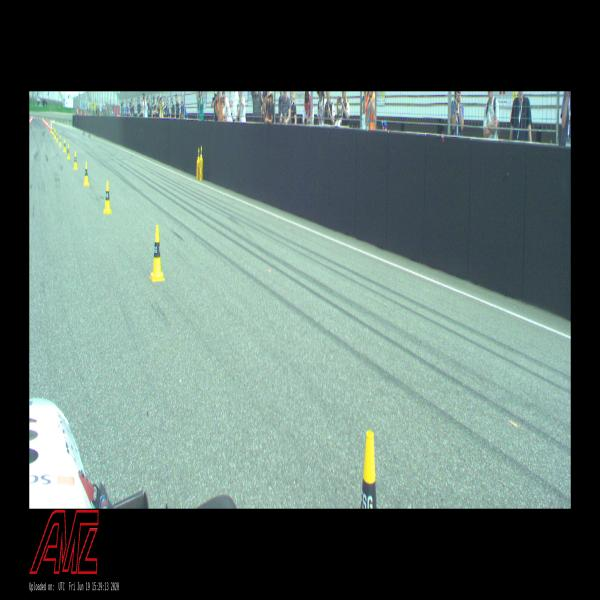yellow_cone: (359, 430, 377, 509), (149, 225, 165, 282), (103, 180, 112, 214), (83, 162, 90, 186), (73, 151, 78, 169), (66, 144, 70, 159), (63, 139, 67, 153), (197, 148, 200, 163), (59, 136, 62, 147), (201, 146, 203, 161), (54, 130, 56, 139), (52, 126, 54, 134), (57, 133, 58, 142)
